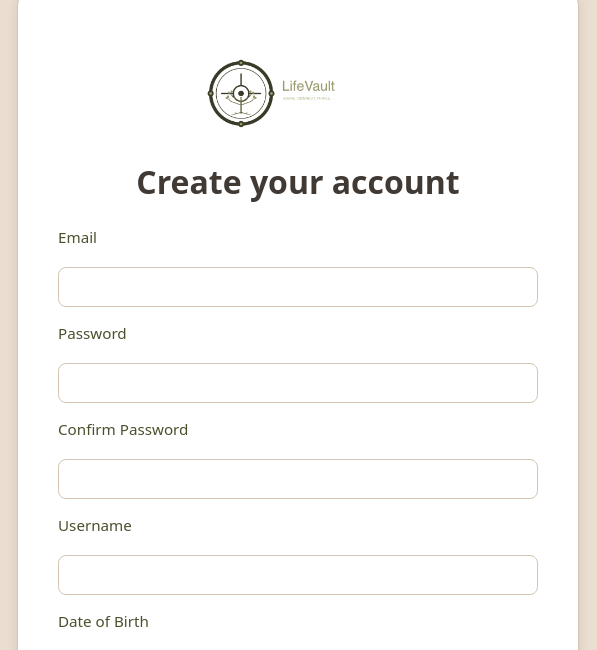
Test case: Signup Page › When user inputs a valid password but confirm password doesn't match, error occurs.
Type "test@email.com" into the field labelled "Email" at [298, 287], box 58,267 -> 538,307
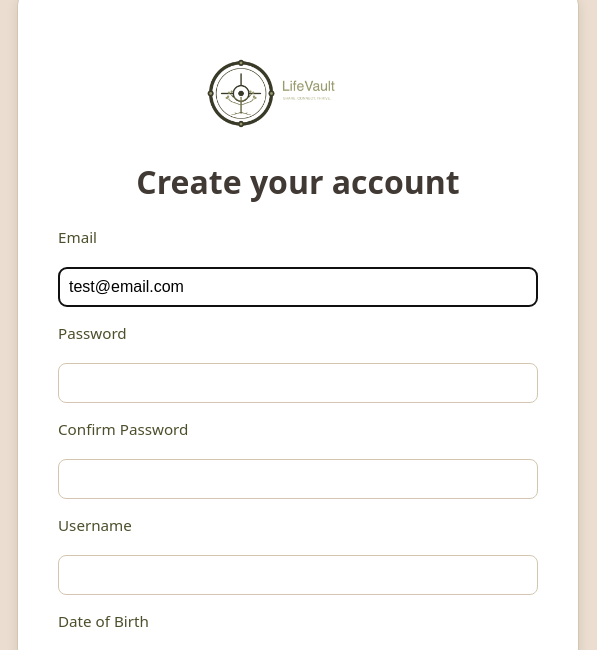
Type "Hello14!" into the password field labelled "Password" at [298, 383], box 58,363 -> 538,403
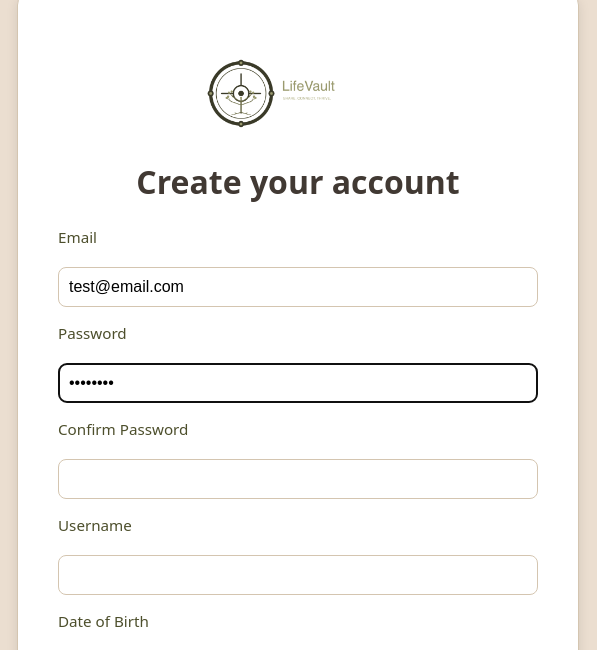
Type "Hello14" into the password field labelled "Confirm Password" at [298, 479], box 58,459 -> 538,499
(page scrolled)
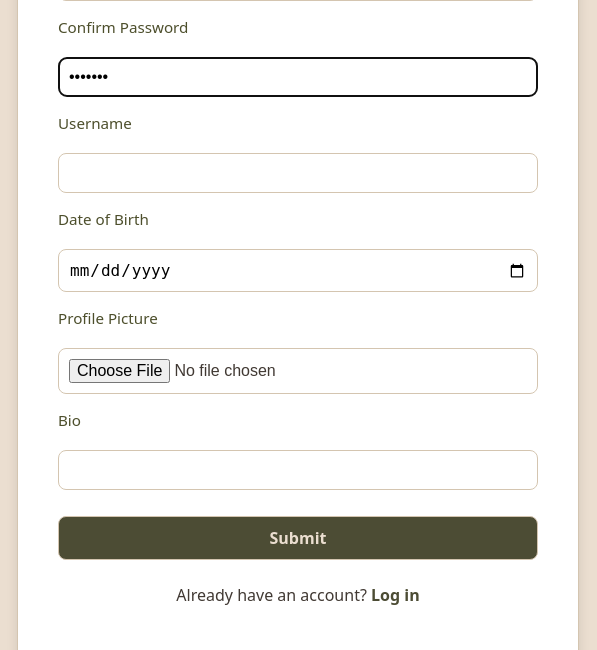
Click the button at [298, 538], box 58,516 -> 538,560
(page scrolled)
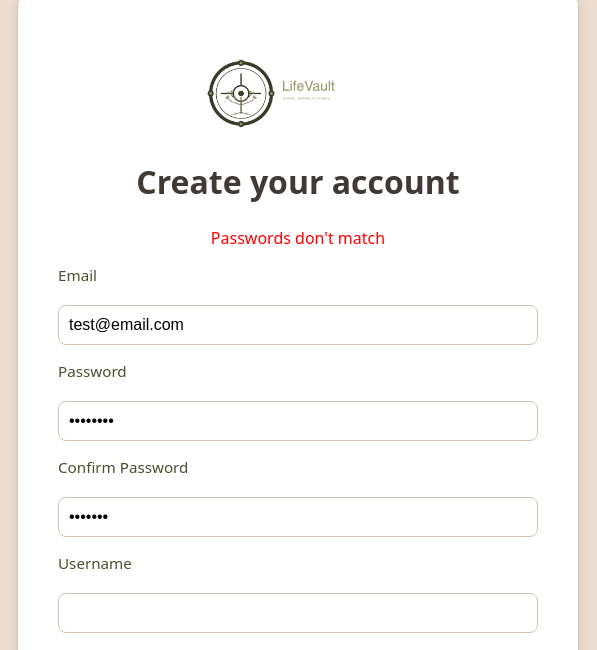
Expected: the text "Passwords don't match" is shown, 211,227 -> 385,249
